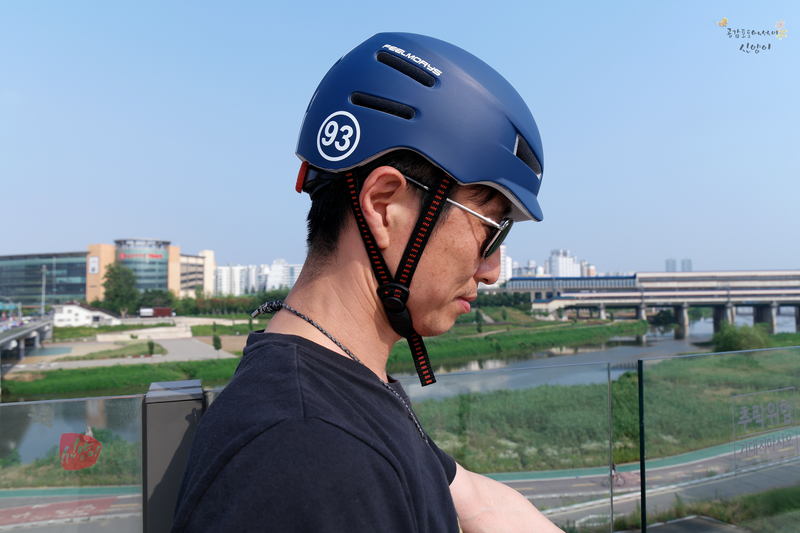with helmet: (291, 29, 548, 353)
